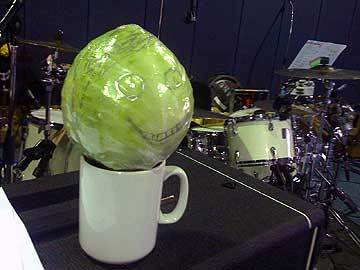cabbage: (60, 24, 195, 170)
